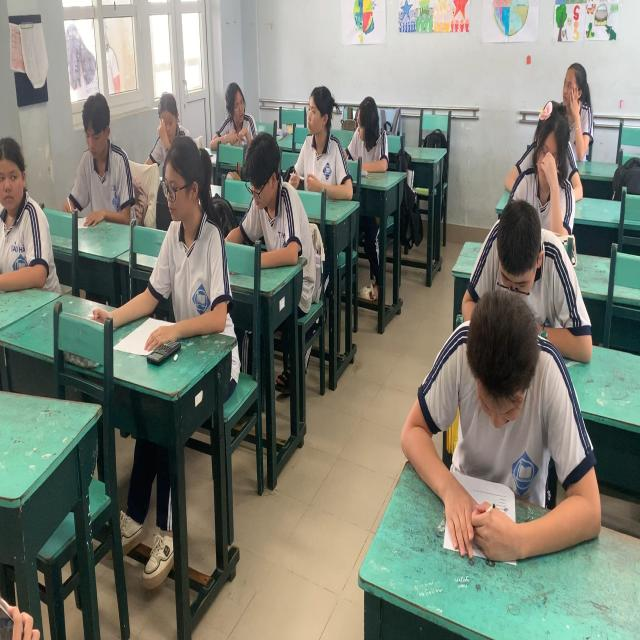cheating: (0, 128, 52, 304), (295, 74, 349, 214), (352, 78, 394, 192), (212, 67, 257, 159)
not_cheating: (430, 309, 598, 550), (152, 130, 228, 354), (240, 115, 314, 288), (60, 84, 132, 239), (480, 207, 574, 325), (511, 98, 582, 233), (556, 50, 602, 156), (142, 74, 181, 159)
